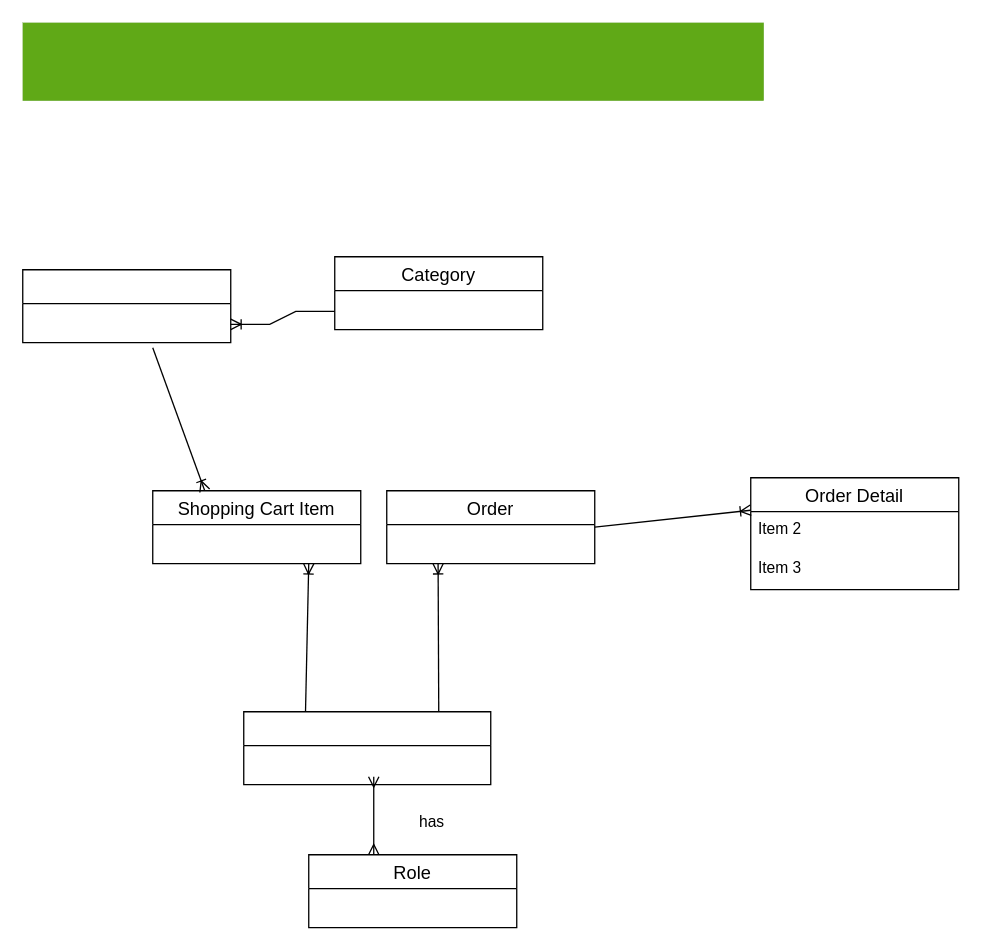
Image size: 981x950. Some labels were removed from this diagram. The shapes that lost their labels are listed below. From the top down, each one's centre as x and y in pixels, then its label:
point 392,61: ER Diagram for ParrotdiseShop Relational Database
point 126,305: Product
point 366,747: User
